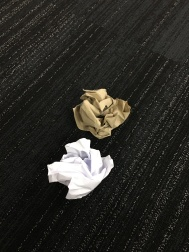paper_brown: (43, 135, 127, 203), (70, 82, 134, 141)
